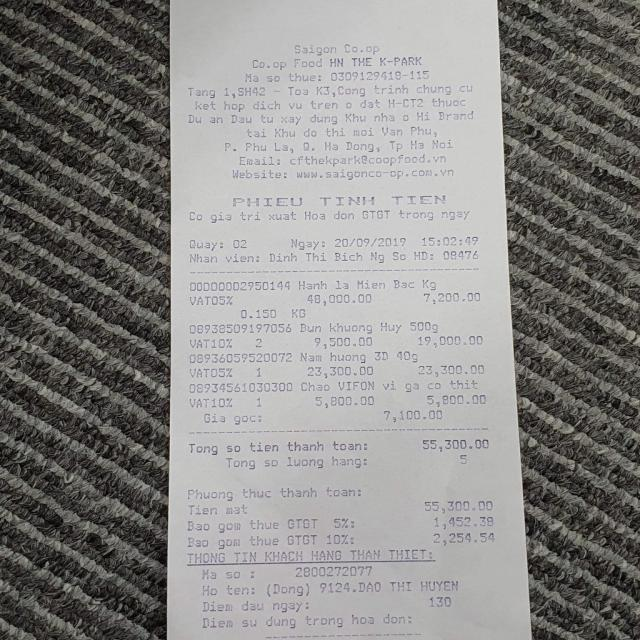Date: (335, 236, 408, 248)
Store_Name: (291, 41, 382, 57)
amount_number: (416, 437, 497, 451)
label_total: (182, 439, 370, 455)
